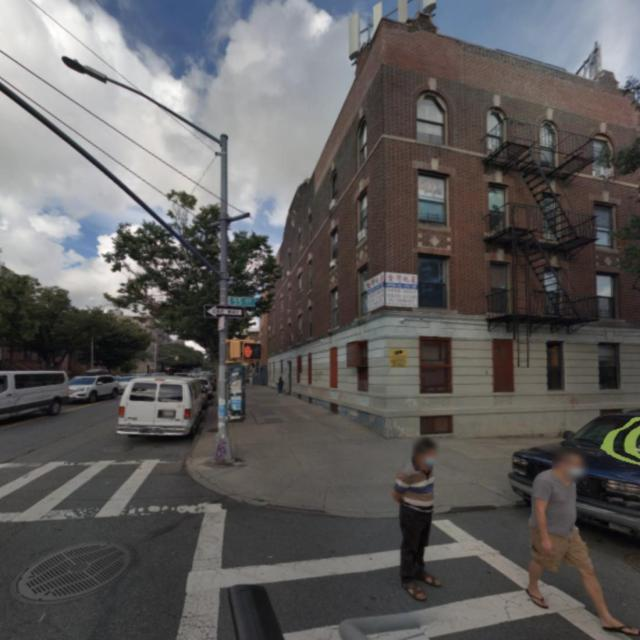off: (43, 21, 144, 115)
